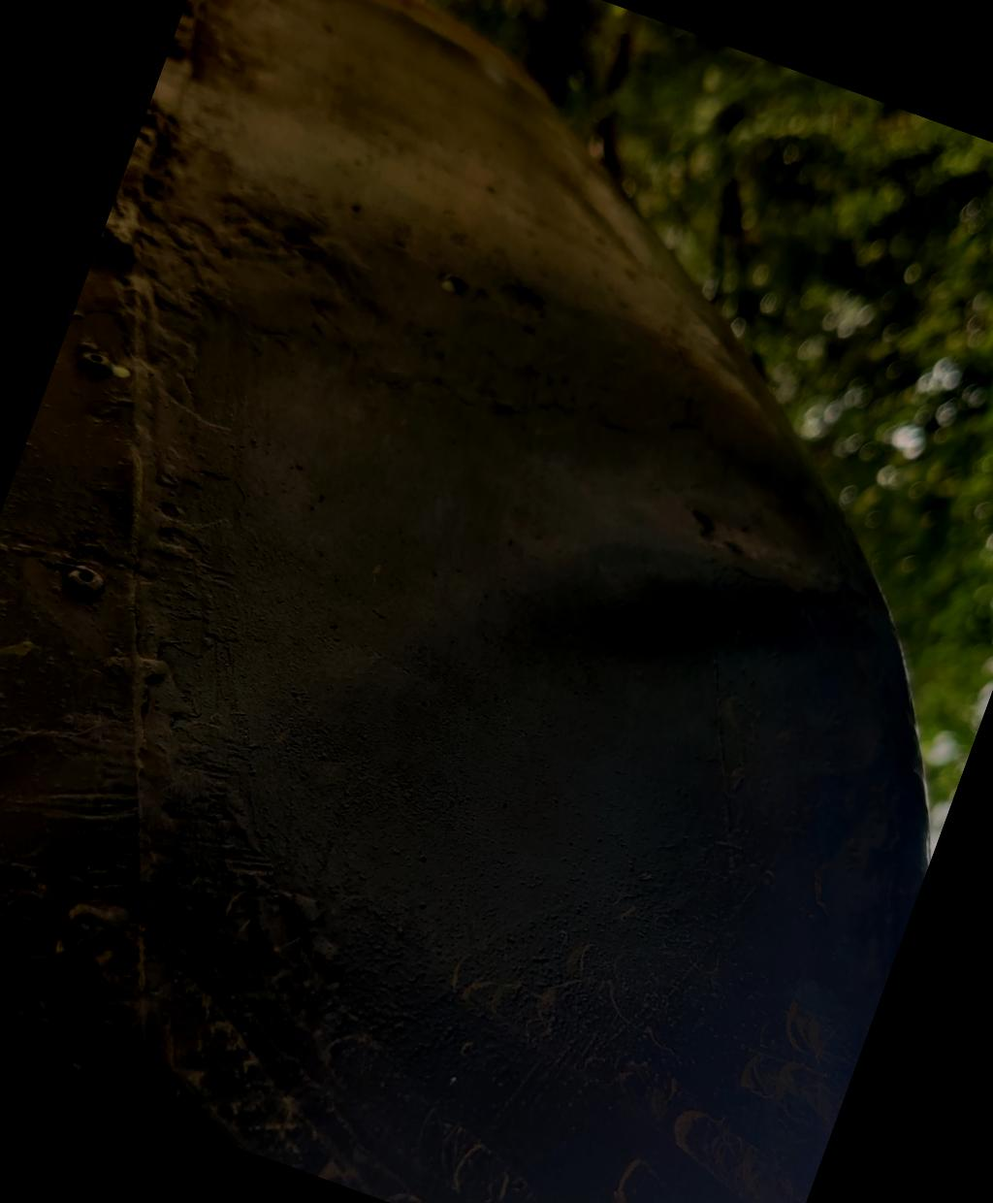dent: (442, 359, 968, 851)
